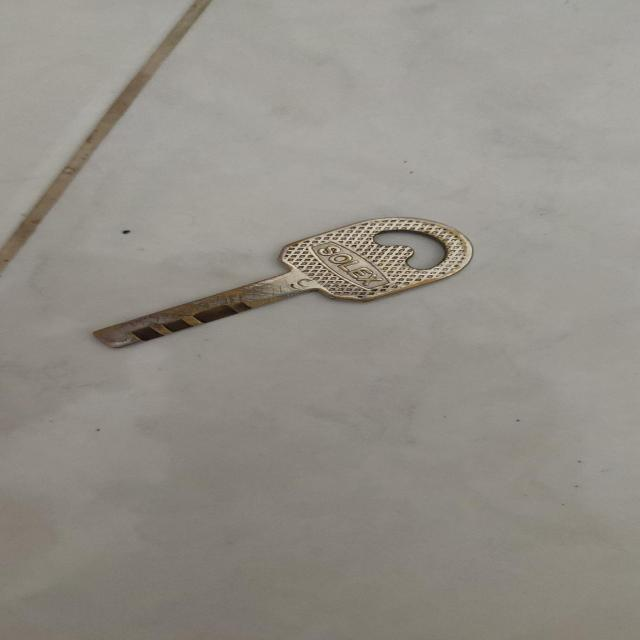kunci_pagar: (95, 202, 484, 377)
